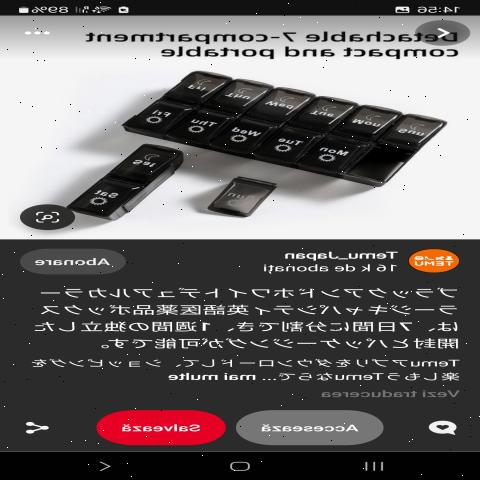Pill-box: (27, 70, 464, 228)
